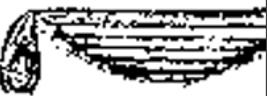Basket: (4, 7, 267, 94)
